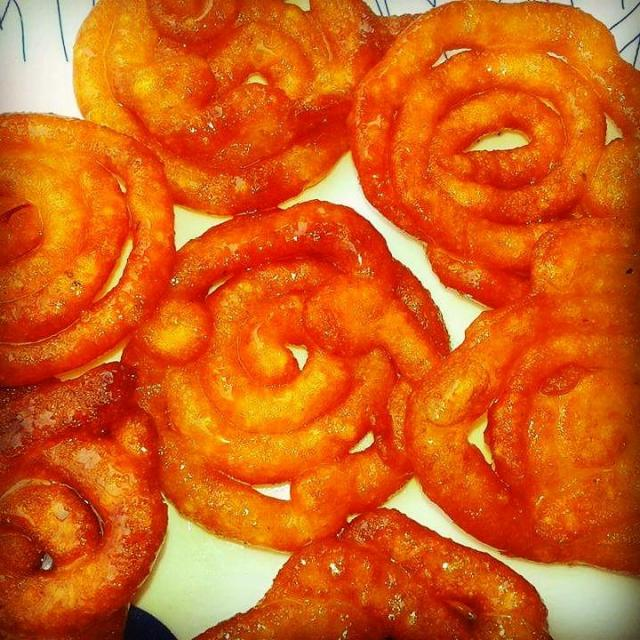jalebi: (12, 21, 640, 634)
